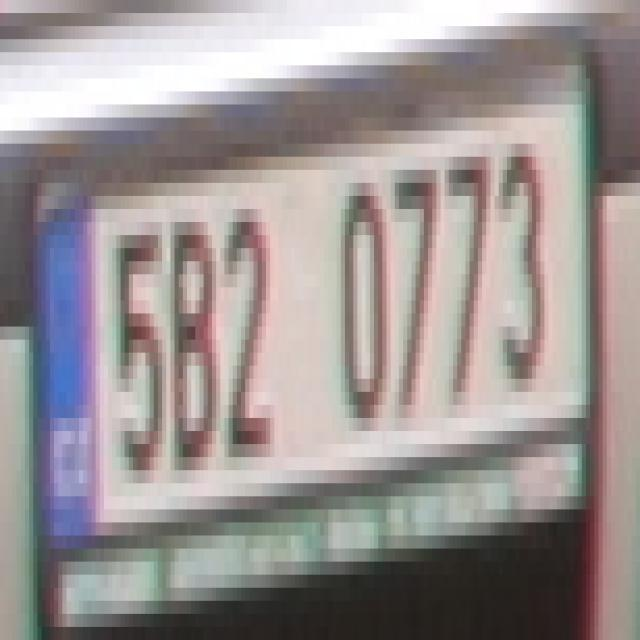0: (340, 183, 390, 418)
2: (220, 196, 278, 444)
3: (494, 130, 552, 392)
5: (112, 209, 162, 457)
7: (382, 157, 432, 418), (441, 144, 486, 378)
B: (170, 196, 220, 457)
